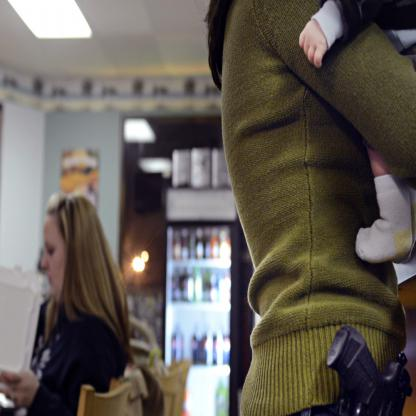gun: (314, 316, 416, 416)
